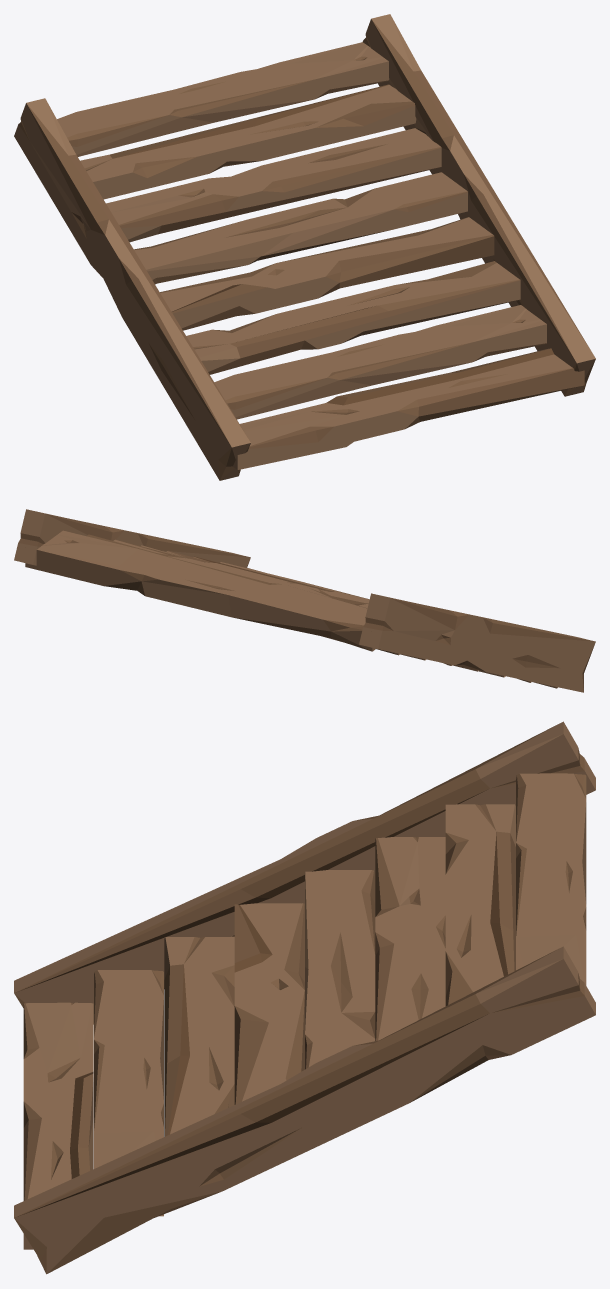
File: mesh_plank_stairs_big.fbx
3 views of the same model, one above another, from view 1: azimuth 30°, elevation 25°; view 2: azimuth 150°, elevation 25°; view 3: azimuth 270°, elevation 25° (orthographic). The views are drawn at different scales.
Visible parts, largest first — view 1: mesh_plank_stairs_big; view 2: mesh_plank_stairs_big; view 3: mesh_plank_stairs_big.
Boxes of the visible parts, x1,y1,x2,y2 form: mesh_plank_stairs_big: [14, 14, 595, 480]; mesh_plank_stairs_big: [14, 509, 595, 692]; mesh_plank_stairs_big: [14, 721, 595, 1274].
Bounding box in the file's own units: 2.01 × 1.24 × 2.07.
